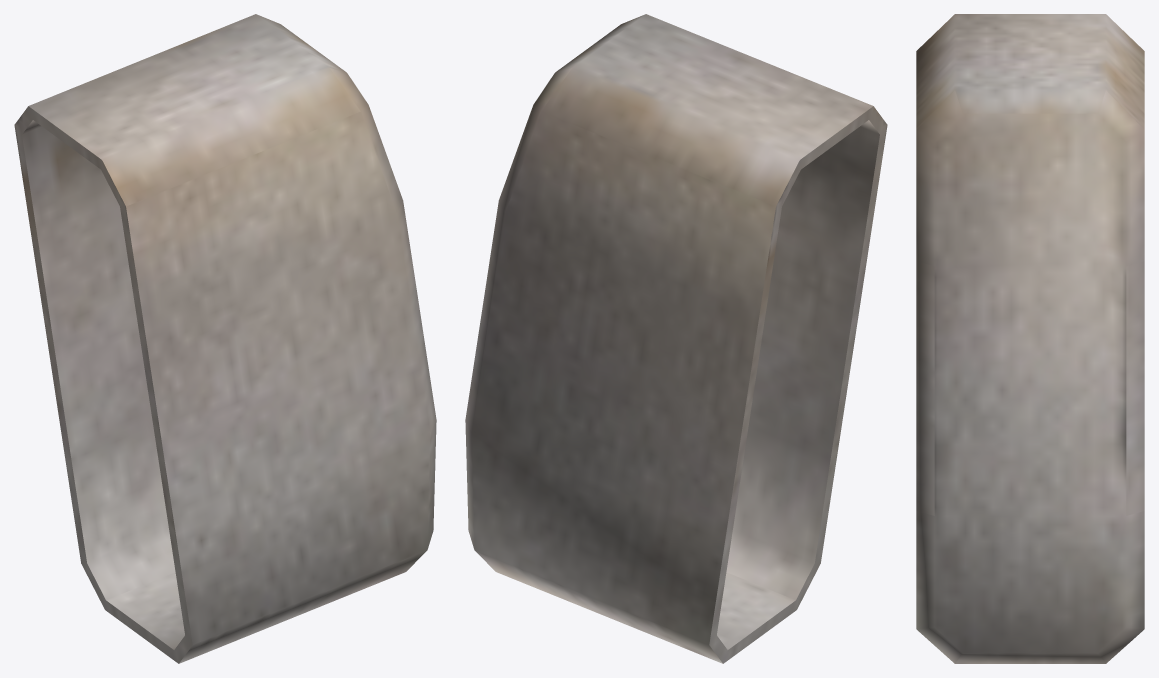
Rendered from zippo_01.glb.
The picture shows the model from 3 angles, left to right: view 1: azimuth 30°, elevation 25°; view 2: azimuth 150°, elevation 25°; view 3: azimuth 270°, elevation 25°; orthographic projection. The views are drawn at different scales.
Visible parts, largest first — view 1: zippo_01; view 2: zippo_01; view 3: zippo_01.
Part boxes in pixels (box(x1,y1,x2,y2)): zippo_01: box(14, 14, 436, 663); zippo_01: box(465, 14, 887, 663); zippo_01: box(916, 14, 1144, 663).
Bounding box in the file's own units: 0.0713 × 0.1174 × 0.0425.
1 material, 1 textured.
